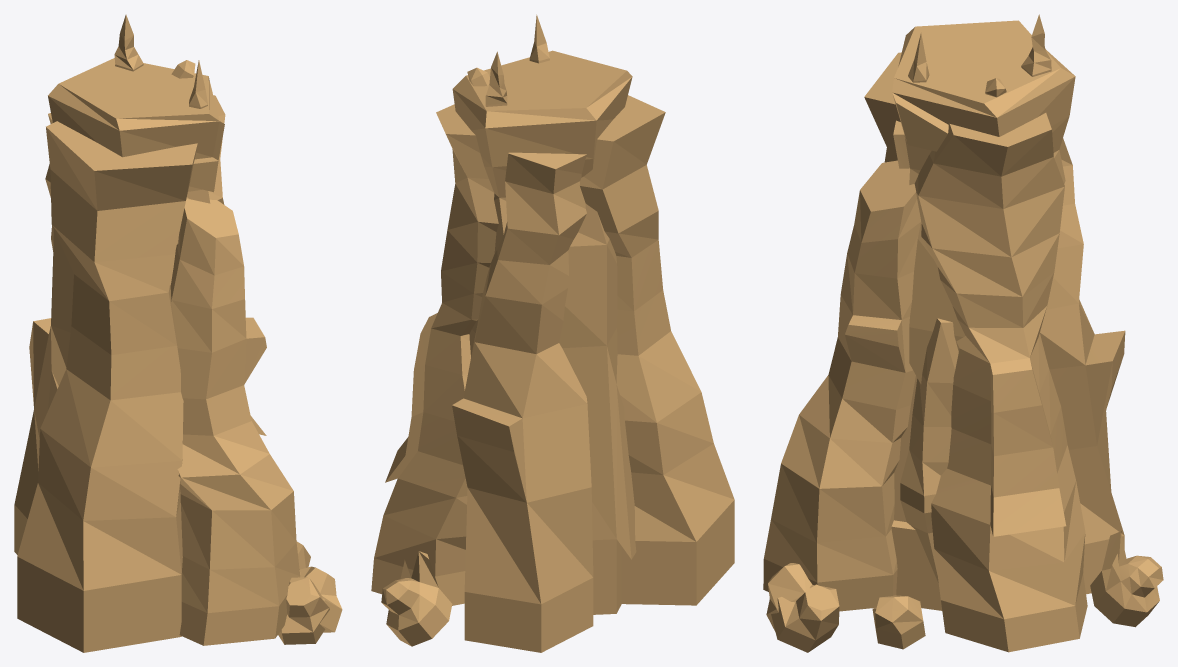
3 views of the same model, side by side, from view 1: azimuth 30°, elevation 25°; view 2: azimuth 150°, elevation 25°; view 3: azimuth 270°, elevation 25° (orthographic). The views are drawn at different scales.
Visible parts, largest first — view 1: node_MeshObject497773376-PolyPaper18; view 2: node_MeshObject497773376-PolyPaper18; view 3: node_MeshObject497773376-PolyPaper18.
Boxes of the visible parts, x1,y1,x2,y2 form: node_MeshObject497773376-PolyPaper18: (14, 14, 342, 652); node_MeshObject497773376-PolyPaper18: (371, 14, 734, 652); node_MeshObject497773376-PolyPaper18: (763, 14, 1163, 652).
Bounding box in the file's own units: 0.3093 × 0.5876 × 0.359.
